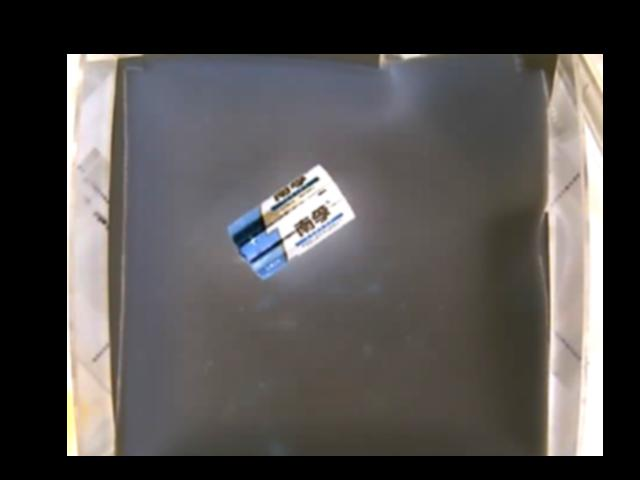Battery: (227, 165, 355, 280)
